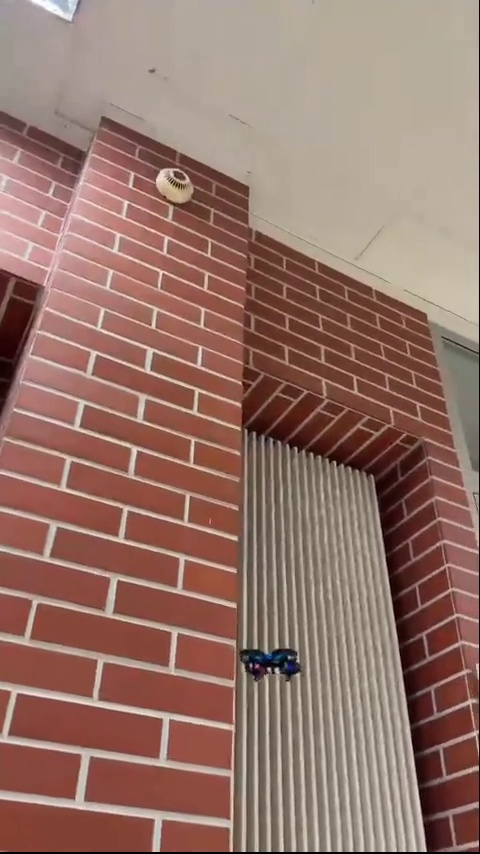drone: (235, 651, 305, 675)
